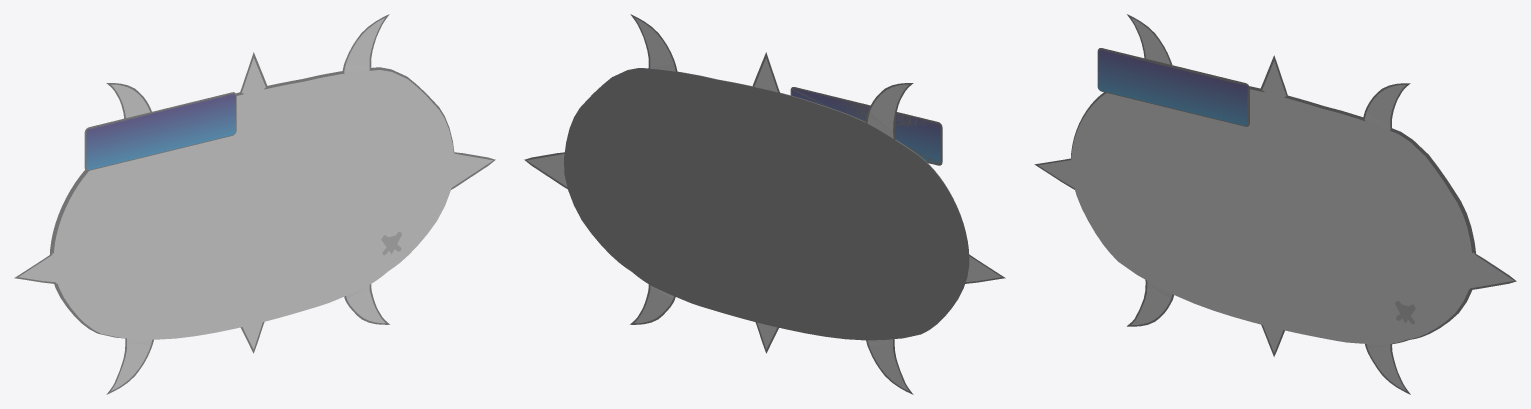
Rendered from smal_bubble_move_group_v01.fbx.
3 renders of one model, left to right at view 1: azimuth 30°, elevation 25°; view 2: azimuth 150°, elevation 25°; view 3: azimuth 330°, elevation 25°, orthographic.
Parts seen in each view (by area): view 1: small_bubble_text, large_name_text, small_bubble_outline, small_schweif_NE, small_schweif_SW, small_schweif_SE, small_schweif_E, small_schweif_NW, small_name, small_schweif_W, small_schweif_N; view 2: small_bubble_outline, small_name, small_schweif_NW, small_schweif_NE, small_schweif_SW, large_name_outline, small_schweif_SE, small_schweif_E, small_schweif_W, small_schweif_N; view 3: small_bubble_text, large_name_text, small_bubble_outline, small_schweif_NE, small_schweif_SW, small_schweif_E, small_schweif_SE, small_schweif_NW, small_schweif_N, small_schweif_W, small_name, large_name_outline.
Boxes of the visible parts, x1,y1,x2,y2 form: small_bubble_text: (53,70,454,339); large_name_text: (87,94,235,169); small_bubble_outline: (50,67,454,338); small_schweif_NE: (342,14,389,73); small_schweif_SW: (106,338,153,394); small_schweif_SE: (344,284,389,324); small_schweif_E: (451,152,495,189); small_schweif_NW: (106,83,151,118); small_name: (84,92,236,170); small_schweif_W: (14,253,57,284); small_schweif_N: (240,52,267,93); small_bubble_outline: (564,68,969,340); small_name: (790,87,942,165); small_schweif_NW: (865,83,913,139); small_schweif_NE: (630,14,677,71); small_schweif_SW: (866,339,913,394); large_name_outline: (790,87,942,165); small_schweif_SE: (630,284,675,324); small_schweif_E: (524,152,567,188); small_schweif_W: (965,254,1005,283); small_schweif_N: (752,52,779,92); small_bubble_text: (1071,89,1472,344); large_name_text: (1098,50,1247,125); small_bubble_outline: (1071,86,1475,343); small_schweif_NE: (1363,83,1410,130); small_schweif_SW: (1127,280,1173,326); small_schweif_E: (1469,252,1516,289); small_schweif_SE: (1365,343,1410,394); small_schweif_NW: (1127,14,1172,64); small_schweif_N: (1260,55,1287,97); small_schweif_W: (1034,158,1074,189); small_name: (1097,48,1249,126); large_name_outline: (1097,48,1249,126).
Size of the model in its own units: 6.18 by 3.82 by 0.11.
Materials: 6 (1 with a texture image).
